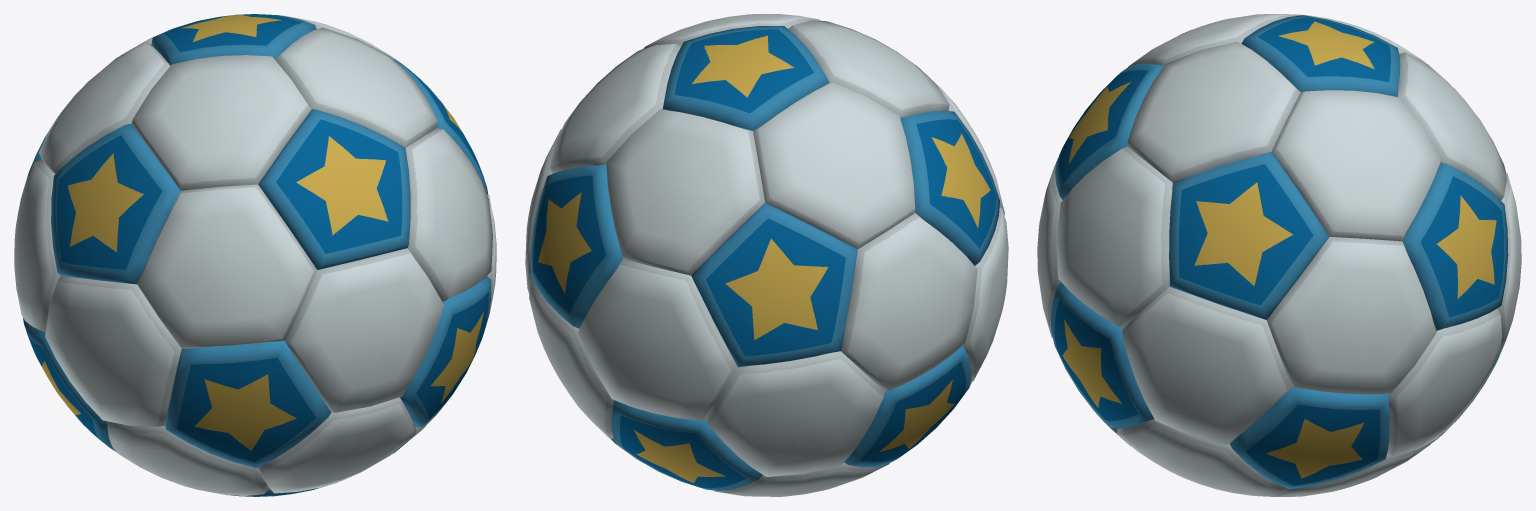
File: FootBall_Ball_01.fbx
The picture shows the model from 3 angles, left to right: view 1: azimuth 30°, elevation 25°; view 2: azimuth 150°, elevation 25°; view 3: azimuth 270°, elevation 25°; orthographic projection.
Parts seen in each view (by area): view 1: FootBall_Ball_01; view 2: FootBall_Ball_01; view 3: FootBall_Ball_01.
Part boxes in pixels (bbox=[...]): FootBall_Ball_01: bbox=[14, 14, 496, 496]; FootBall_Ball_01: bbox=[525, 14, 1008, 496]; FootBall_Ball_01: bbox=[1037, 14, 1521, 496].
Bounding box in the file's own units: 115 × 115 × 115.
